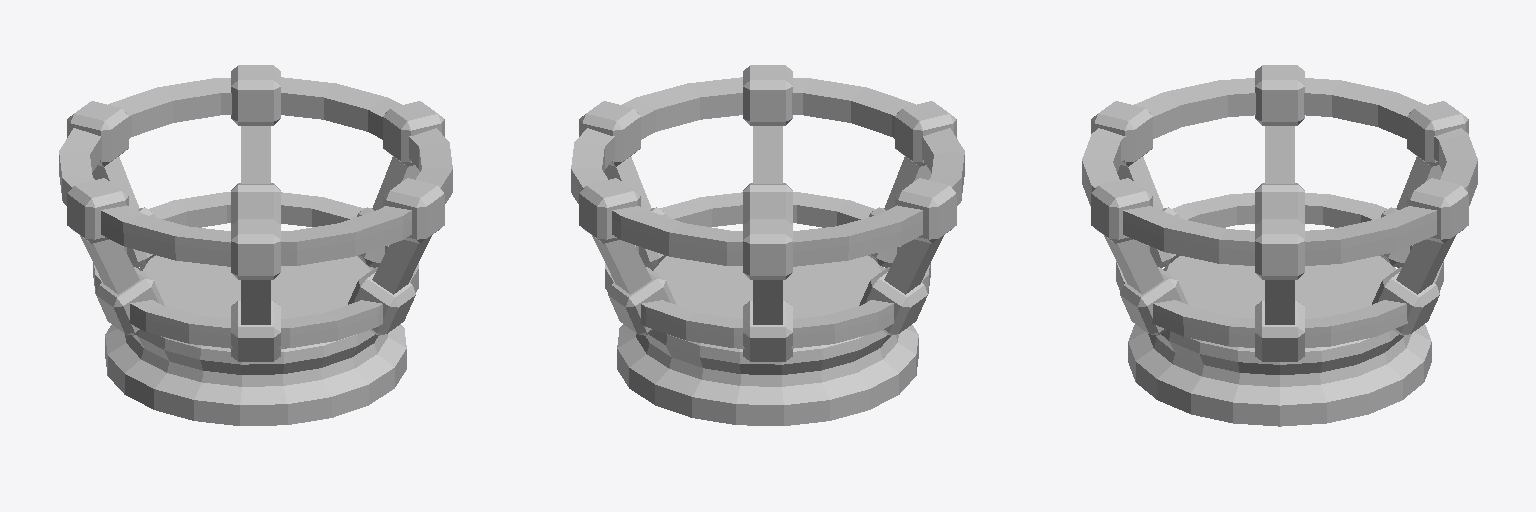
File: BrazierCenterWhite.obj
The picture shows the model from 3 angles: view 1: azimuth 30°, elevation 25°; view 2: azimuth 150°, elevation 25°; view 3: azimuth 270°, elevation 25°; orthographic projection.
Visible parts, largest first — view 1: BrazierCenter; view 2: BrazierCenter; view 3: BrazierCenter.
Part boxes in pixels (x1,y1,x2,y2): BrazierCenter: (59,65,452,425); BrazierCenter: (571,65,964,425); BrazierCenter: (1082,65,1477,426).
Size of the model in its own units: 0.8944 by 0.5066 by 0.8536.